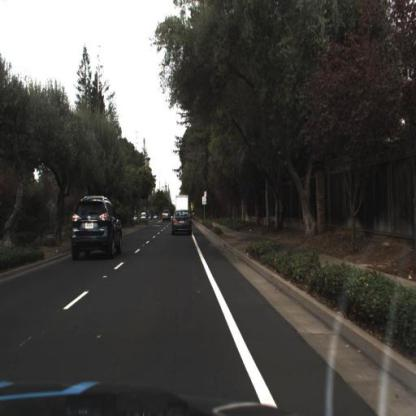car: (71, 195, 125, 264), (170, 208, 195, 237), (161, 207, 174, 228)
truck: (173, 193, 191, 217)
